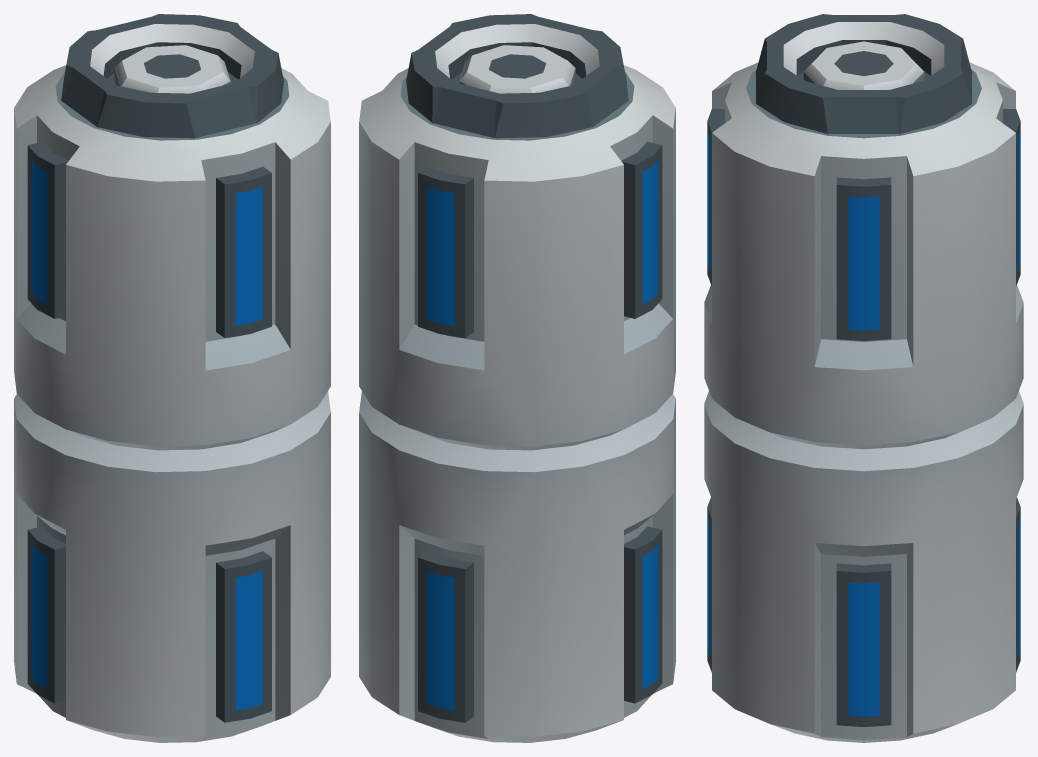
File: Battery_001.fbx
The picture shows the model from 3 angles, left to right: view 1: azimuth 30°, elevation 25°; view 2: azimuth 150°, elevation 25°; view 3: azimuth 270°, elevation 25°; orthographic projection.
Parts seen in each view (by area): view 1: Battery_001; view 2: Battery_001; view 3: Battery_001.
Part boxes in pixels (x1,y1,x2,y2): Battery_001: (14, 14, 330, 742); Battery_001: (359, 14, 675, 742); Battery_001: (704, 14, 1023, 742).
Bounding box in the file's own units: 36.61 × 36.61 × 80.53.
